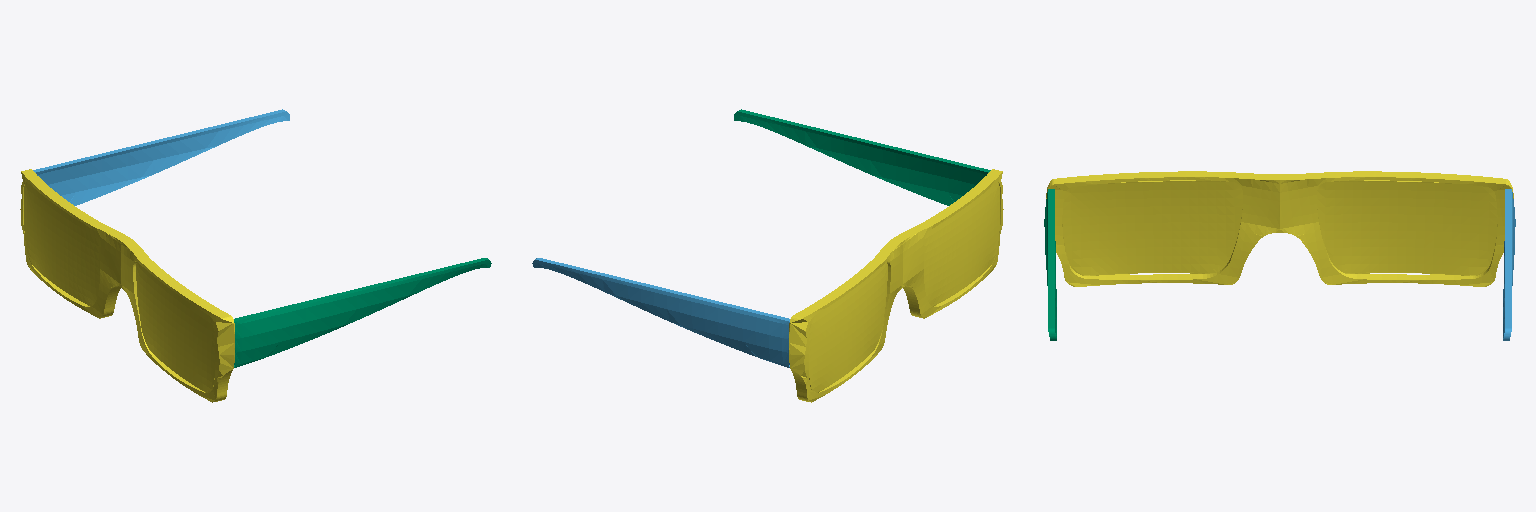
robot.urdf — partnet_9197731b76f4a5311c4715249ed9b23b:
<?xml version="1.0" ?>
<robot name="partnet_9197731b76f4a5311c4715249ed9b23b">
	<link name="base"/>
	<link name="link_0">
		<visual name="leg-1">
			<origin xyz="0.6158811496506598 -0.09728600000000043 -0.08004448252724705"/>
			<geometry>
				<mesh filename="textured_objs/original-3.obj" scale="0.3 0.3 0.3"/>
			</geometry>
		</visual>
		<collision>
			<origin xyz="0.6158811496506598 -0.09728600000000043 -0.08004448252724705"/>
			<geometry>
				<mesh filename="textured_objs/original-3.obj" scale="0.3 0.3 0.3"/>
			</geometry>
		</collision>
	</link>
	<joint name="joint_0" type="revolute">
		<origin xyz="-0.6158811496506598 0.09728600000000043 0.08004448252724705"/>
		<axis xyz="0 -1 0"/>
		<child link="link_0"/>
		<parent link="link_2"/>
		<limit lower="-0.0" upper="1.2000883936713007"/>
	</joint>
	<link name="link_1">
		<visual name="leg-2">
			<origin xyz="-0.5912784925662327 -0.09728599999999954 -0.08022447130102006"/>
			<geometry>
				<mesh filename="textured_objs/original-9.obj" scale="0.3 0.3 0.3"/>
			</geometry>
		</visual>
		<collision>
			<origin xyz="-0.5912784925662327 -0.09728599999999954 -0.08022447130102006"/>
			<geometry>
				<mesh filename="textured_objs/original-9.obj" scale="0.3 0.3 0.3"/>
			</geometry>
		</collision>
	</link>
	<joint name="joint_1" type="revolute">
		<origin xyz="0.5912784925662327 0.09728599999999954 0.08022447130102006"/>
		<axis xyz="0 1 0"/>
		<child link="link_1"/>
		<parent link="link_2"/>
		<limit lower="0.0" upper="1.319468914507713"/>
	</joint>
	<link name="link_2">
		<visual name="base_body-3">
			<origin xyz="0 0 0"/>
			<geometry>
				<mesh filename="textured_objs/original-2.obj" scale="0.3 0.3 0.3"/>
			</geometry>
		</visual>
		<visual name="base_body-3">
			<origin xyz="0 0 0"/>
			<geometry>
				<mesh filename="textured_objs/original-8.obj" scale="0.3 0.3 0.3"/>
			</geometry>
		</visual>
		<visual name="base_body-3">
			<origin xyz="0 0 0"/>
			<geometry>
				<mesh filename="textured_objs/original-5.obj" scale="0.3 0.3 0.3"/>
			</geometry>
		</visual>
		<visual name="base_body-3">
			<origin xyz="0 0 0"/>
			<geometry>
				<mesh filename="textured_objs/original-6.obj" scale="0.3 0.3 0.3"/>
			</geometry>
		</visual>
		<visual name="base_body-3">
			<origin xyz="0 0 0"/>
			<geometry>
				<mesh filename="textured_objs/original-11.obj" scale="0.3 0.3 0.3"/>
			</geometry>
		</visual>
		<visual name="base_body-3">
			<origin xyz="0 0 0"/>
			<geometry>
				<mesh filename="textured_objs/original-12.obj" scale="0.3 0.3 0.3"/>
			</geometry>
		</visual>
		<collision>
			<origin xyz="0 0 0"/>
			<geometry>
				<mesh filename="textured_objs/original-2.obj" scale="0.3 0.3 0.3"/>
			</geometry>
		</collision>
		<collision>
			<origin xyz="0 0 0"/>
			<geometry>
				<mesh filename="textured_objs/original-8.obj" scale="0.3 0.3 0.3"/>
			</geometry>
		</collision>
		<collision>
			<origin xyz="0 0 0"/>
			<geometry>
				<mesh filename="textured_objs/original-5.obj" scale="0.3 0.3 0.3"/>
			</geometry>
		</collision>
		<collision>
			<origin xyz="0 0 0"/>
			<geometry>
				<mesh filename="textured_objs/original-6.obj" scale="0.3 0.3 0.3"/>
			</geometry>
		</collision>
		<collision>
			<origin xyz="0 0 0"/>
			<geometry>
				<mesh filename="textured_objs/original-11.obj" scale="0.3 0.3 0.3"/>
			</geometry>
		</collision>
		<collision>
			<origin xyz="0 0 0"/>
			<geometry>
				<mesh filename="textured_objs/original-12.obj" scale="0.3 0.3 0.3"/>
			</geometry>
		</collision>
	</link>
	<joint name="joint_2" type="fixed">
		<origin rpy="1.570796326794897 0 -1.570796326794897" xyz="0 0 0"/>
		<child link="link_2"/>
		<parent link="base"/>
	</joint>
</robot>

--- Render facts (derived) ---
3 views of the same robot in one strip: view 1: azimuth 30°, elevation 25°; view 2: azimuth 150°, elevation 25°; view 3: azimuth 270°, elevation 25° (orthographic).
Robot: partnet_9197731b76f4a5311c4715249ed9b23b — 4 links, 3 joints (2 revolute, 1 fixed); root link base; default pose: all joints at 0.
Links seen in each view (by area): view 1: link_2, link_1, link_0; view 2: link_2, link_0, link_1; view 3: link_2, link_0, link_1.
Link boxes in pixels (x1,y1,x2,y2): link_2: [20, 169, 234, 402]; link_1: [234, 258, 491, 367]; link_0: [33, 109, 289, 205]; link_2: [789, 169, 1003, 402]; link_0: [532, 258, 789, 367]; link_1: [734, 109, 990, 205]; link_2: [1046, 171, 1513, 286]; link_0: [1503, 189, 1515, 340]; link_1: [1044, 189, 1056, 340].
Bounding box of the posed robot: 0.2846 × 0.3723 × 0.0934 m (x, y, z).
Meshes: 8 distinct files referenced, 8 mesh visuals loaded (8 OBJ).